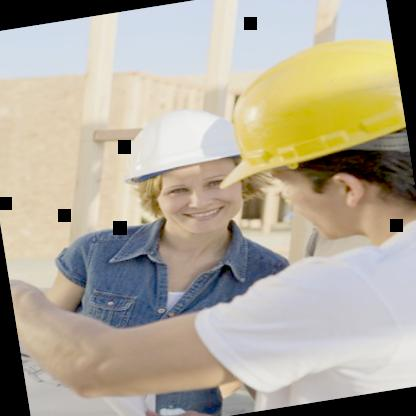helmet: (177, 13, 416, 268), (104, 78, 266, 264)
